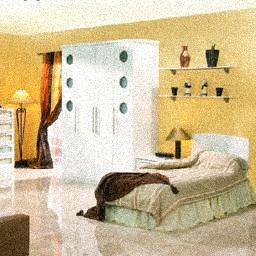Armario: (53, 40, 155, 181)
